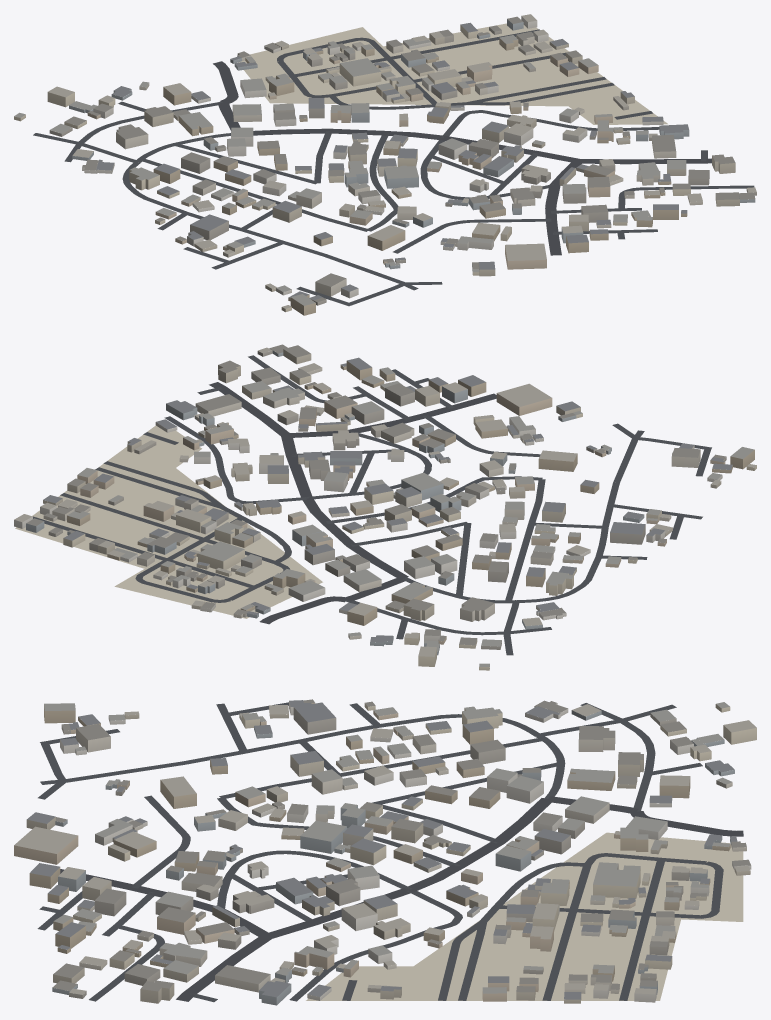
The picture shows the model from 3 angles, top to bottom: view 1: azimuth 30°, elevation 25°; view 2: azimuth 150°, elevation 25°; view 3: azimuth 270°, elevation 25°; orthographic projection. The views are drawn at different scales.
Parts seen in each view (by area): view 1: buildings_walls, buildings_roofs, roads, landuse; view 2: buildings_walls, buildings_roofs, roads, landuse; view 3: buildings_walls, buildings_roofs, roads, landuse.
Part boxes in pixels (bbox=[...]): buildings_walls: bbox=[14, 16, 756, 315]; buildings_roofs: bbox=[14, 14, 756, 308]; roads: bbox=[33, 29, 754, 306]; landuse: bbox=[238, 23, 667, 124]; buildings_walls: bbox=[14, 348, 756, 670]; buildings_roofs: bbox=[14, 344, 756, 666]; roads: bbox=[33, 355, 711, 655]; landuse: bbox=[15, 425, 322, 618]; buildings_walls: bbox=[14, 701, 756, 1005]; buildings_roofs: bbox=[14, 699, 756, 999]; roads: bbox=[37, 702, 743, 1002]; landuse: bbox=[306, 832, 743, 1000].
Size of the model in its own units: 511 by 9.62 by 529.
